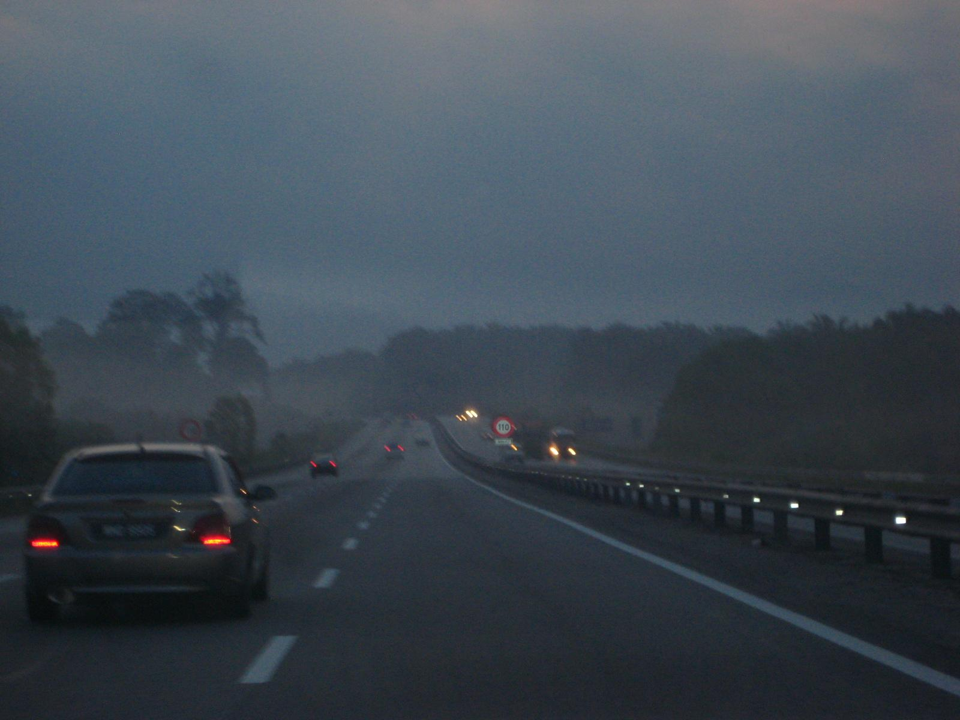car: (22, 439, 280, 623), (540, 427, 578, 462), (309, 456, 341, 480), (383, 441, 407, 461)
